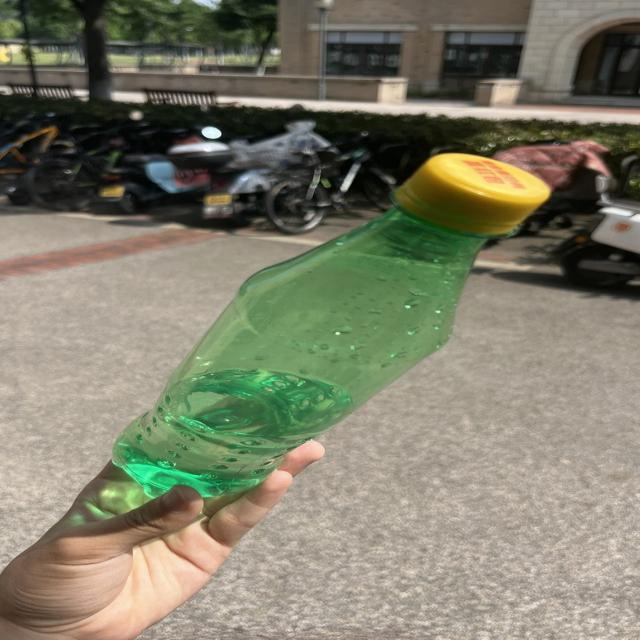medium: (113, 153, 546, 496)
